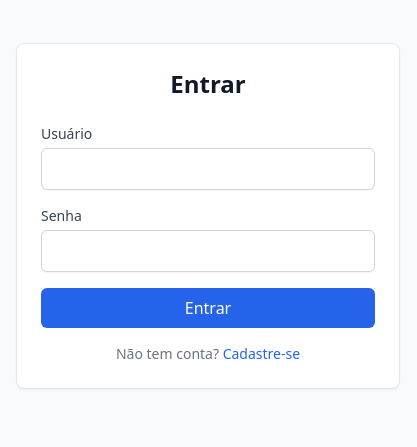
LoginPage › exibe erro de conexão quando api retorna ok:false por falha de rede
This screenshot has width=417, height=447.
Type "joao" into the field labelled "Usuário" at x=208, y=169, box [41,148,375,190]
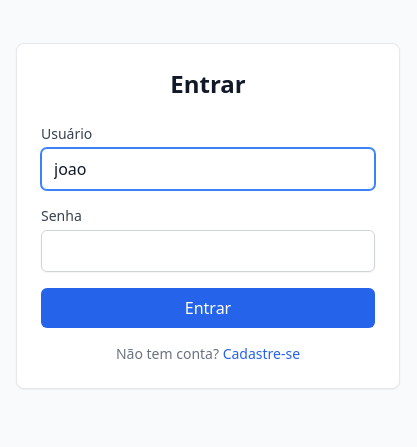
Type "senha123" into the password field labelled "Senha" at x=208, y=251, box [41,230,375,272]
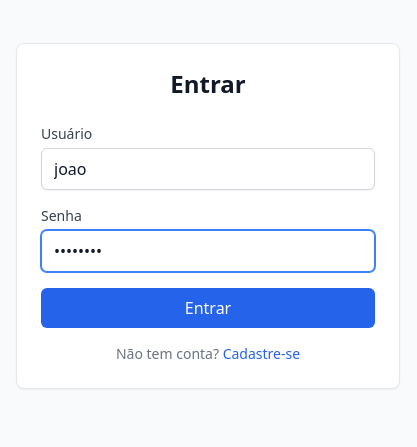
Click the button "Entrar" at x=208, y=308, box [41,288,375,328]
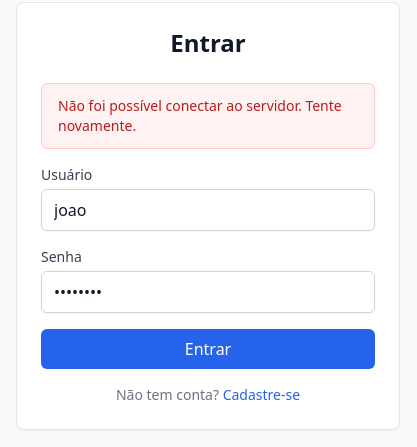
Expected: the button "Entrar" is enabled, [41,329,375,369]
Result: the text "Não foi possível conectar ao servidor. Tente novamente." is shown at [41,83,375,149]
